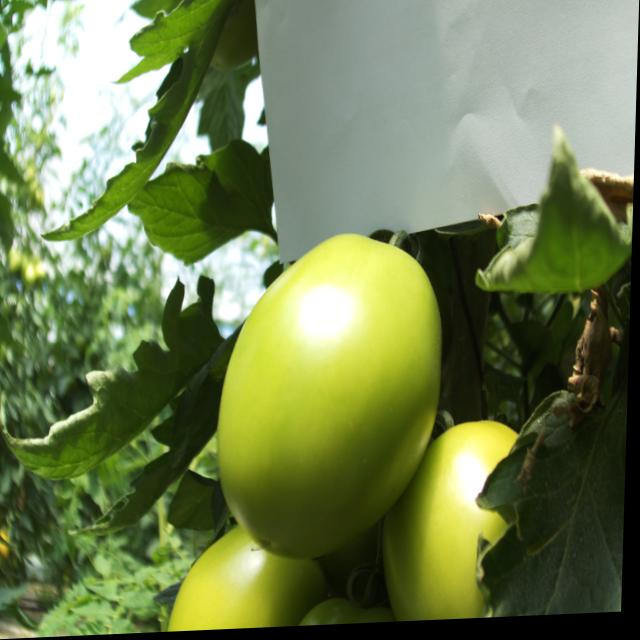yesil: (164, 198, 547, 634)
